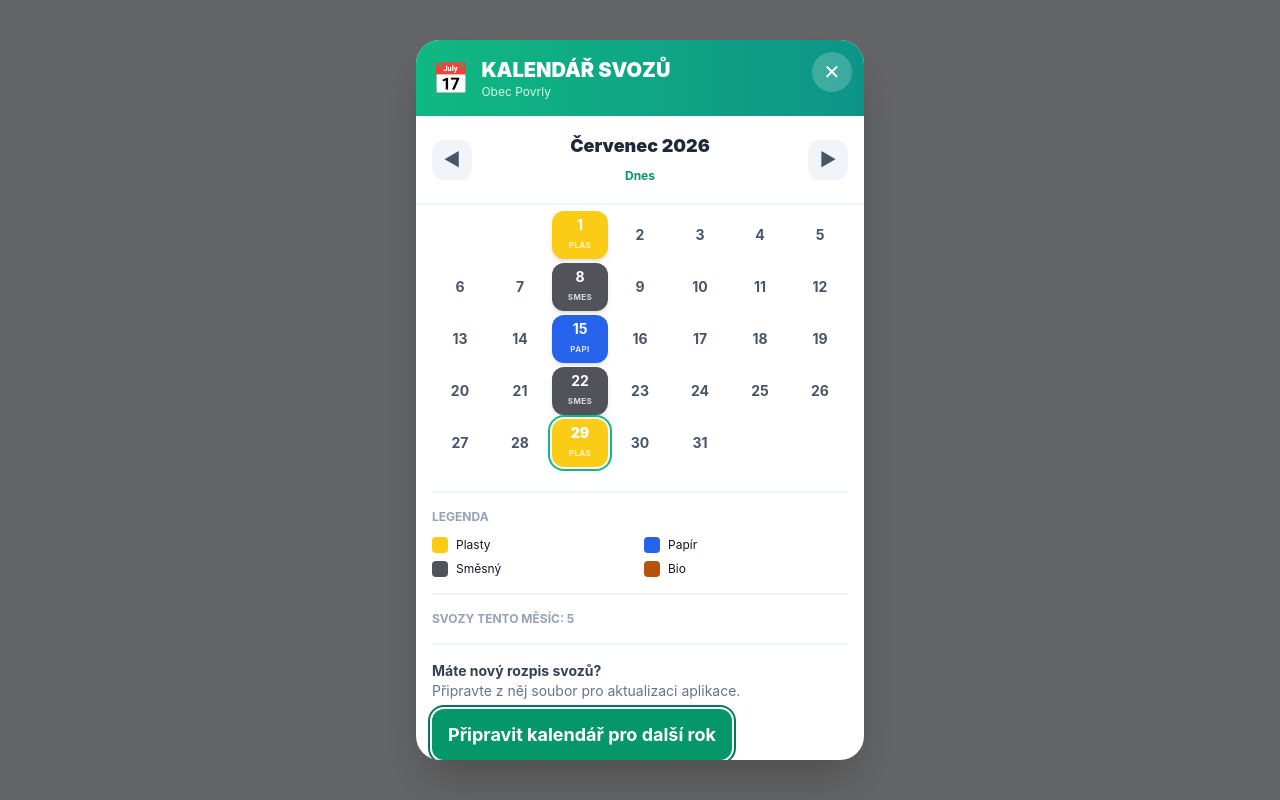
Test: schedule editor UI › opens from the calendar with 2027 preselected
(page scrolled)
Click the button "Připravit kalendář pro další rok" at (582, 734), box [432,709,732,760]
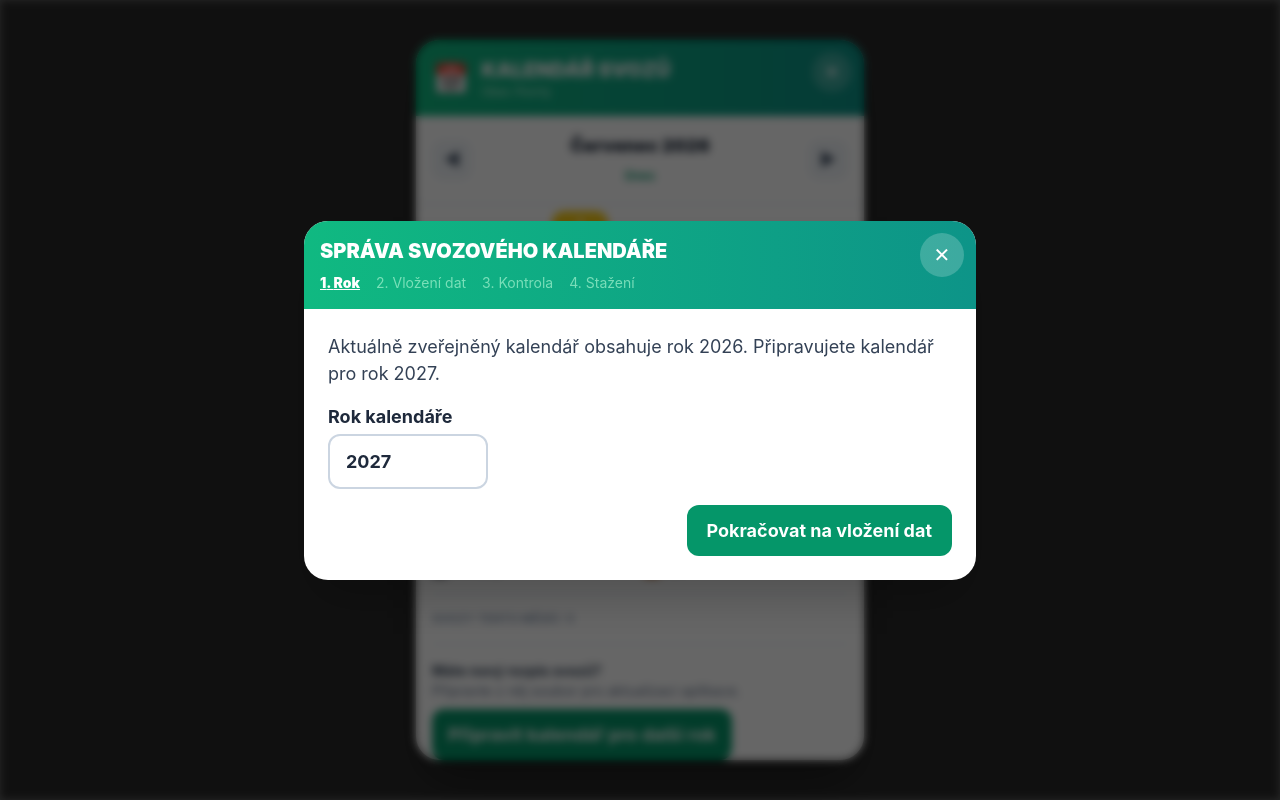
Expected: the dialog "Správa svozového kalendáře" is shown
Expected: the number field labelled "Rok kalendáře" holds "2027", [328,434,488,488]
Expected: the text "Aktuálně zveřejněný kalendář obsahuje rok 2026" is shown, [328,332,952,386]
